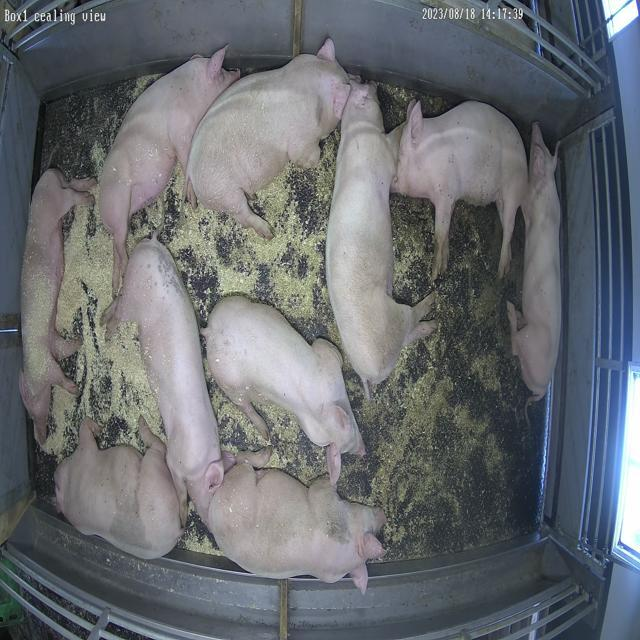Pig: (99, 47, 240, 292), (106, 236, 224, 522), (187, 38, 351, 238), (201, 296, 366, 484), (19, 169, 94, 444), (54, 419, 183, 560)
